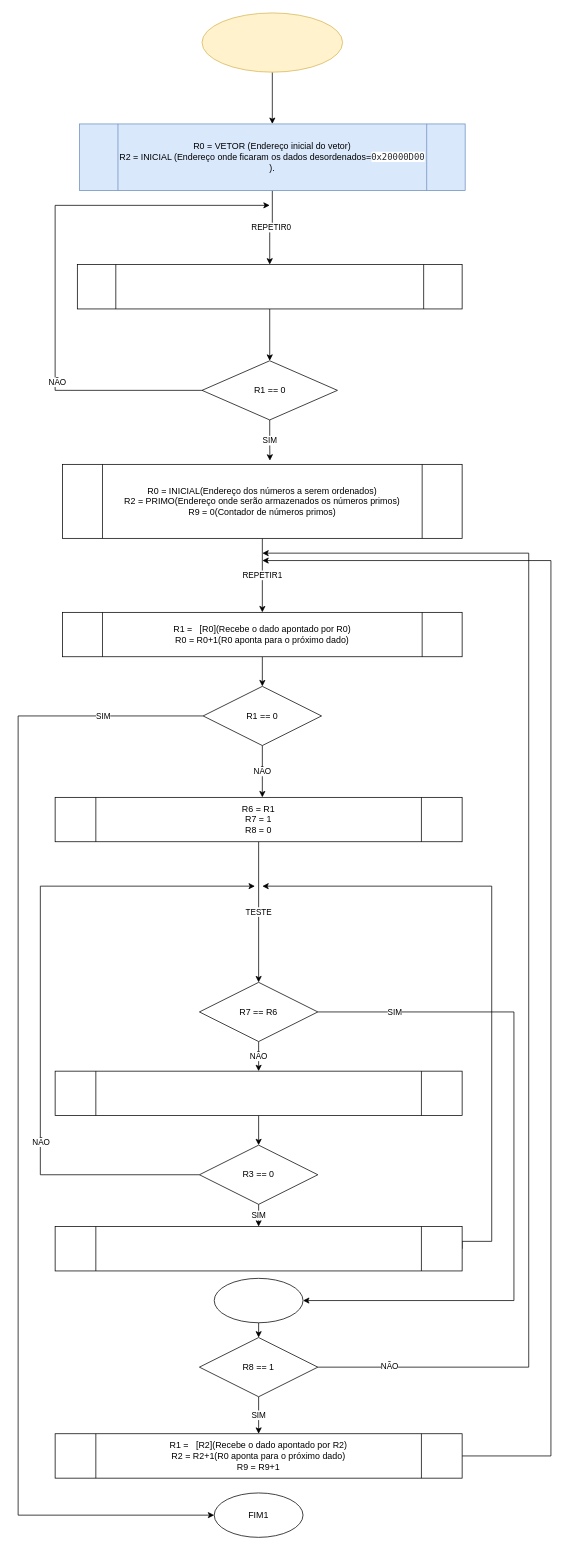
Image size: 570x1550. Some labels were removed from this diagram. The shapes that lost their labels are listed below. From the top down, each one's centre as x and y in pixels, then its label:
At point 272,42: "INÍCIO".
At point 269,286: "R1 = [R0](Recebe o dado apontado por R0) R0=R0+1(R0 aponta para o próximo dado)".
At point 258,1093: "R7 = R7+1 R5 = R1/R7 R3 = R6-R5*R7".
At point 258,1248: "R8 = R8+1".
At point 258,1300: "ADICIONAR".
